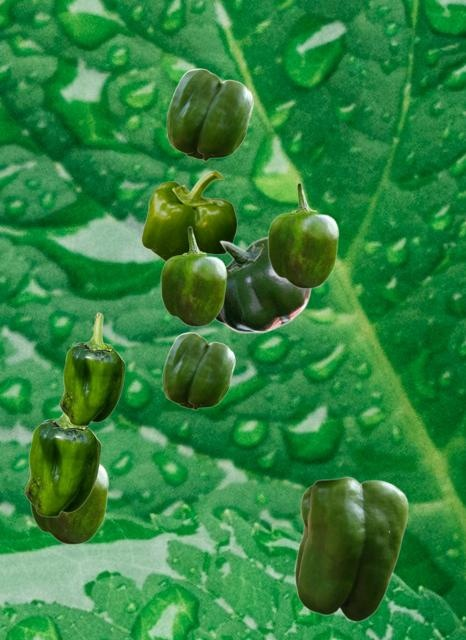bell_pepper: (294, 476, 408, 621), (215, 236, 311, 332), (141, 170, 236, 261), (166, 68, 252, 160), (24, 413, 100, 516), (267, 182, 338, 288), (59, 312, 124, 425), (160, 226, 226, 326), (29, 464, 108, 544), (162, 332, 234, 409)
